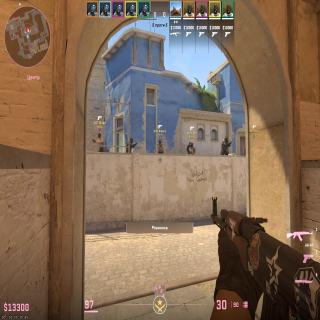CT-Body: (220, 136, 228, 155), (126, 137, 133, 152), (187, 142, 191, 154)
CT-Head: (224, 136, 228, 142), (130, 137, 133, 143), (189, 142, 191, 145)
T-Body: (97, 133, 105, 152), (188, 142, 196, 154), (158, 140, 164, 153)
T-Head: (98, 133, 101, 138), (191, 143, 193, 148), (159, 140, 161, 145)
